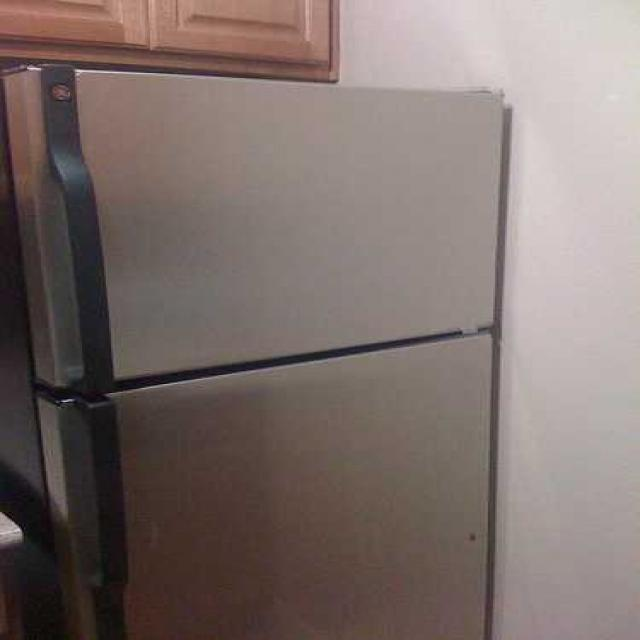refrigerator: (5, 62, 513, 640)
